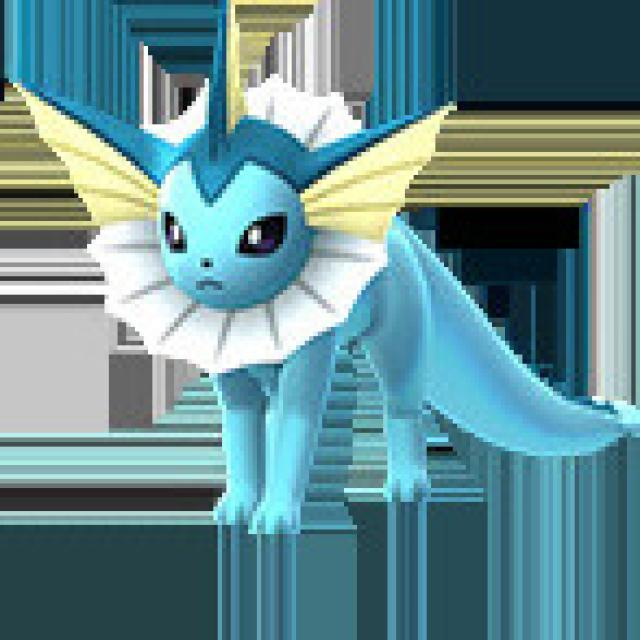Vaporeon: (89, 70, 462, 530)
